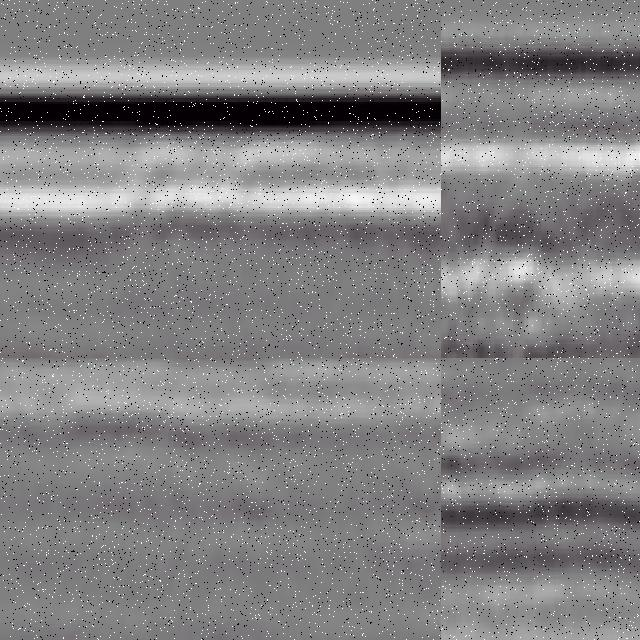crack: (442, 359, 472, 640)
